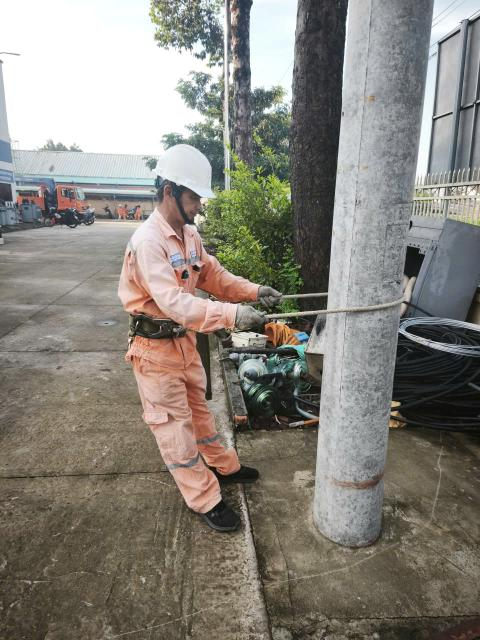gloves: (237, 272, 282, 326), (230, 299, 274, 334)
harness: (111, 299, 201, 349)
helmet: (140, 135, 230, 197)
shoes: (178, 481, 244, 539), (208, 441, 267, 495)
